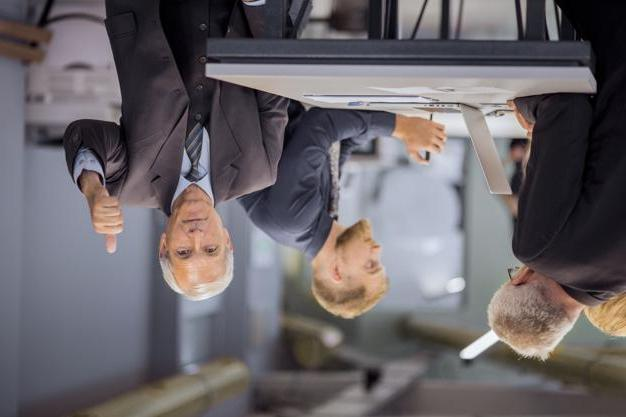thumbsdown: (91, 197, 124, 253)
